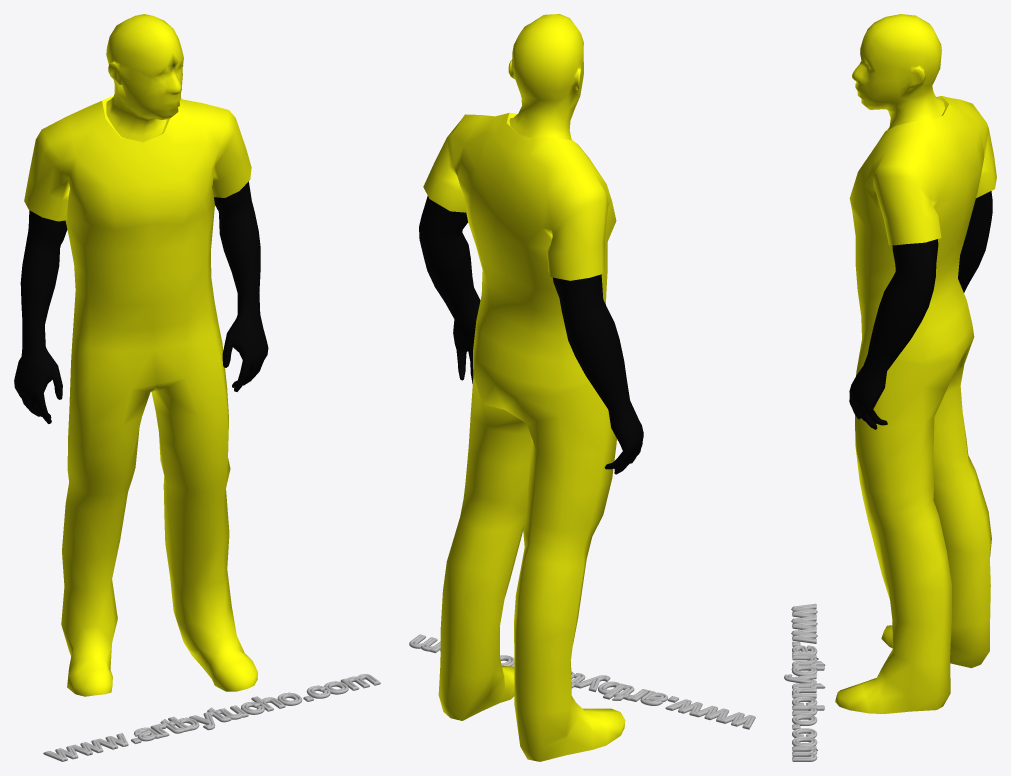
3 views of the same model, side by side, from view 1: azimuth 30°, elevation 25°; view 2: azimuth 150°, elevation 25°; view 3: azimuth 270°, elevation 25° (orthographic). The views are drawn at different scales.
Parts seen in each view (by area): view 1: body_retopo01, Text01; view 2: body_retopo01, Text01; view 3: body_retopo01, Text01.
Part boxes in pixels (x1,y1,x2,y2): body_retopo01: (14, 14, 268, 696); Text01: (43, 674, 380, 761); body_retopo01: (419, 14, 643, 761); Text01: (409, 634, 755, 729); body_retopo01: (835, 14, 996, 713); Text01: (784, 603, 825, 761).
Size of the model in its own units: 0.9557 by 1.88 by 0.5507.
Materials: 3 (2 with a texture image).
